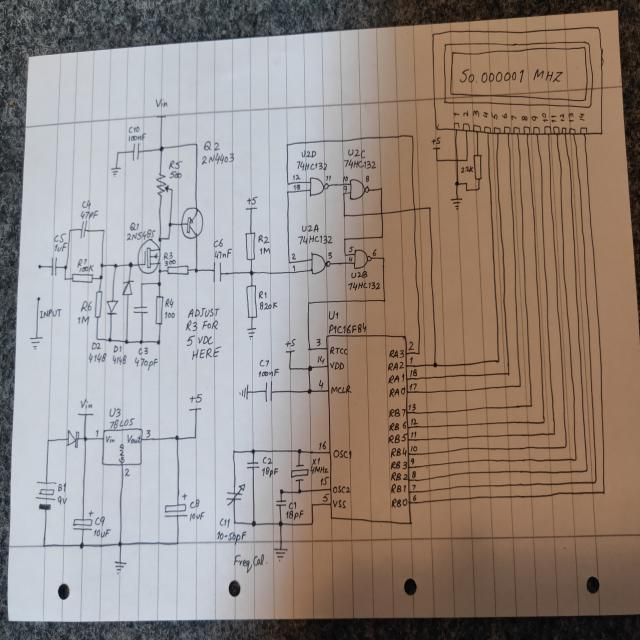capacitor: (164, 493, 188, 518), (226, 482, 245, 507), (72, 510, 94, 531), (264, 380, 274, 404), (213, 261, 222, 283), (132, 304, 149, 315), (49, 256, 58, 276), (131, 144, 141, 161), (246, 459, 260, 471), (80, 219, 88, 239), (274, 498, 286, 508)
crossover: (379, 209, 384, 217), (412, 207, 417, 212), (455, 157, 459, 163)
diode: (66, 428, 81, 450), (121, 278, 134, 297), (106, 299, 119, 316)
ground: (272, 547, 288, 561), (30, 336, 44, 350), (114, 560, 127, 575), (239, 383, 249, 400), (450, 197, 463, 210), (110, 164, 121, 178), (246, 326, 257, 340)
junction: (306, 363, 314, 373), (158, 144, 165, 154), (127, 260, 134, 269), (306, 386, 313, 395), (432, 360, 438, 370), (528, 401, 534, 410), (540, 417, 546, 426), (296, 447, 302, 455), (251, 520, 257, 528), (174, 434, 180, 442), (379, 233, 385, 241), (41, 542, 47, 550), (174, 539, 180, 547), (250, 448, 256, 456), (278, 520, 284, 528), (495, 356, 501, 364), (516, 381, 522, 389), (454, 180, 460, 187), (341, 212, 347, 219), (378, 185, 384, 192), (287, 365, 293, 372), (99, 262, 105, 269), (409, 133, 415, 140), (279, 488, 285, 495), (231, 448, 236, 456), (427, 204, 432, 212), (124, 338, 130, 344), (156, 339, 161, 346), (342, 235, 347, 242), (101, 227, 106, 234), (115, 149, 120, 156), (68, 227, 73, 234), (297, 488, 302, 495), (80, 541, 84, 549), (306, 300, 311, 306), (285, 142, 290, 148), (249, 270, 254, 276), (63, 264, 68, 270), (99, 274, 104, 280), (158, 237, 163, 243), (83, 436, 88, 442), (46, 437, 50, 444), (476, 186, 480, 193), (310, 520, 314, 527), (118, 540, 122, 547), (382, 298, 387, 303), (113, 263, 118, 268), (193, 434, 197, 440), (168, 222, 172, 228), (435, 157, 439, 163), (310, 502, 314, 508), (157, 281, 161, 287), (563, 444, 567, 450), (194, 268, 198, 274), (139, 339, 143, 345), (158, 268, 162, 274), (417, 350, 421, 356), (343, 252, 347, 258), (602, 490, 606, 495), (382, 256, 386, 261), (62, 276, 66, 281), (506, 371, 510, 376), (552, 431, 556, 436), (574, 457, 578, 462), (585, 468, 589, 473), (167, 236, 171, 241), (194, 142, 198, 147), (307, 347, 311, 352), (232, 520, 236, 525), (594, 480, 598, 484), (464, 158, 468, 162), (170, 188, 174, 192), (95, 337, 99, 341), (108, 338, 112, 342), (140, 282, 144, 286), (286, 182, 290, 186), (286, 190, 290, 194), (465, 182, 468, 186), (288, 260, 291, 264), (342, 192, 345, 196), (465, 189, 468, 192)
resistor: (245, 284, 257, 319), (155, 171, 169, 198), (244, 232, 256, 261), (154, 294, 164, 326), (72, 271, 94, 285), (94, 290, 103, 320), (167, 265, 189, 276), (473, 154, 482, 180)
source: (35, 480, 57, 510)
terminal: (77, 412, 94, 417), (245, 206, 258, 211), (189, 407, 202, 412), (156, 114, 167, 119), (36, 262, 42, 271), (285, 349, 295, 354), (36, 295, 42, 302), (432, 147, 441, 150)
text: (459, 68, 563, 84), (233, 553, 266, 573), (328, 321, 367, 335), (191, 345, 222, 361), (215, 530, 247, 545), (201, 152, 234, 166), (185, 319, 219, 332), (188, 307, 220, 319), (298, 234, 332, 245), (134, 356, 158, 371), (126, 229, 156, 241), (296, 160, 327, 171), (186, 334, 214, 346), (344, 159, 376, 169), (348, 281, 380, 291), (329, 383, 353, 396), (110, 417, 136, 429), (328, 344, 348, 357), (39, 308, 62, 319), (332, 448, 353, 460), (331, 484, 351, 496), (88, 352, 108, 364), (387, 433, 408, 444), (257, 368, 280, 378), (188, 510, 206, 522), (390, 496, 408, 508), (214, 248, 232, 260), (261, 466, 279, 478), (347, 148, 366, 159), (329, 359, 345, 372), (390, 446, 407, 458), (300, 223, 320, 233), (388, 386, 406, 397), (390, 471, 408, 482), (388, 421, 406, 432), (204, 140, 220, 152), (259, 300, 278, 310), (128, 132, 147, 142), (80, 210, 99, 220), (388, 360, 405, 371), (387, 373, 404, 384), (94, 528, 112, 538), (300, 149, 318, 159), (154, 97, 169, 109), (286, 510, 304, 520), (390, 460, 408, 470), (388, 408, 406, 418), (310, 464, 328, 474), (388, 348, 404, 359), (332, 498, 348, 509), (80, 300, 93, 313), (112, 354, 127, 365), (391, 483, 406, 494), (168, 160, 184, 170), (327, 309, 340, 321), (127, 433, 141, 444), (79, 398, 93, 409), (118, 443, 125, 464), (188, 498, 200, 510), (350, 270, 368, 278), (219, 516, 231, 528), (54, 232, 66, 244), (54, 242, 68, 252), (189, 393, 203, 403), (79, 264, 94, 273), (258, 234, 270, 245), (109, 407, 121, 418), (77, 315, 90, 325), (246, 196, 258, 206), (460, 165, 473, 174), (318, 440, 328, 451), (262, 454, 273, 464), (259, 358, 270, 368), (82, 199, 92, 210), (285, 338, 296, 348), (129, 222, 140, 232), (95, 516, 105, 527), (259, 246, 271, 255), (164, 259, 177, 267), (138, 346, 148, 356), (164, 298, 174, 308), (77, 258, 87, 268), (105, 434, 115, 444), (213, 238, 223, 248), (163, 251, 173, 261), (57, 482, 67, 492), (58, 496, 68, 506), (170, 171, 182, 179), (128, 126, 140, 134), (258, 290, 267, 300), (409, 368, 418, 378), (312, 456, 321, 466), (320, 476, 329, 486), (317, 379, 325, 390), (164, 311, 175, 319), (317, 354, 325, 364), (314, 336, 322, 346), (431, 137, 441, 145), (91, 342, 102, 349), (490, 111, 498, 120), (113, 345, 122, 353), (409, 382, 417, 391), (288, 501, 296, 510), (408, 341, 415, 351), (124, 467, 131, 477), (542, 112, 548, 123), (472, 110, 480, 118), (410, 444, 418, 452), (410, 418, 418, 426), (408, 403, 416, 411), (322, 493, 329, 502), (292, 174, 301, 181), (410, 430, 417, 439), (568, 112, 574, 122), (578, 113, 585, 121), (559, 112, 565, 121), (482, 111, 489, 118), (501, 112, 508, 119), (531, 115, 538, 122), (293, 184, 301, 190), (462, 110, 468, 118), (550, 115, 556, 123), (326, 174, 332, 182), (146, 429, 151, 438), (372, 248, 377, 257), (411, 470, 416, 479), (521, 115, 528, 121), (348, 246, 354, 253), (342, 175, 348, 182), (365, 175, 370, 183), (410, 458, 415, 466), (95, 428, 99, 438), (511, 114, 517, 120), (343, 185, 347, 194), (412, 494, 417, 501), (452, 112, 460, 116), (292, 264, 296, 272), (328, 252, 332, 260), (409, 356, 413, 364), (348, 256, 353, 262), (411, 484, 416, 490), (292, 253, 296, 260)
transistor: (137, 239, 161, 274), (181, 207, 204, 240)
